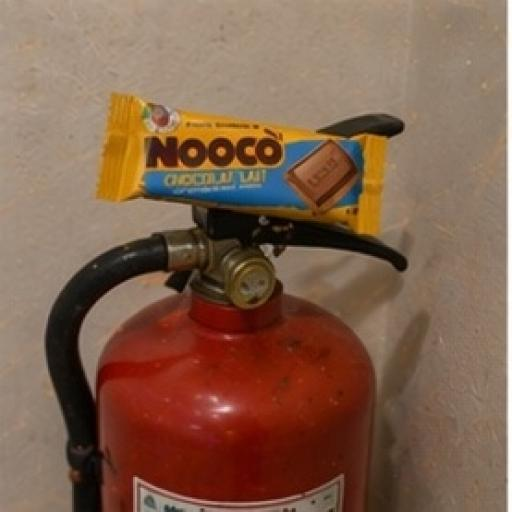biscuit-detection: (94, 65, 436, 261)
